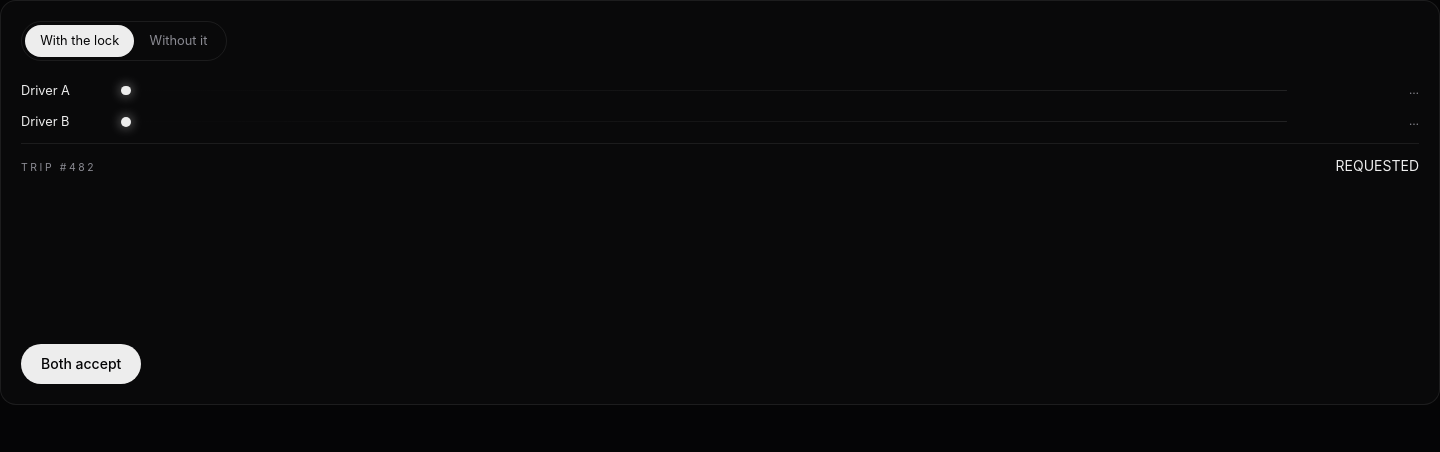
Test: ride race demo › without the lock, the same taps double-book the ride
Click the button "Without it" at [178, 41], box [134,25,223,57]
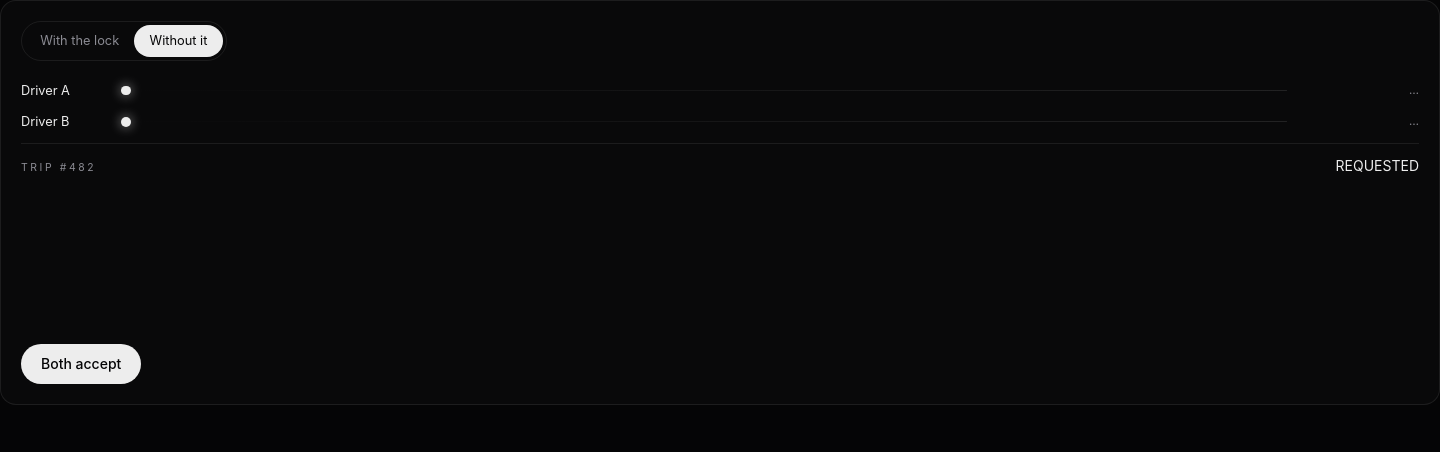
Now the button "Without it" is pressed, box [134,25,223,57]
Click the button "Both accept" at [81, 364], box [21,344,141,384]
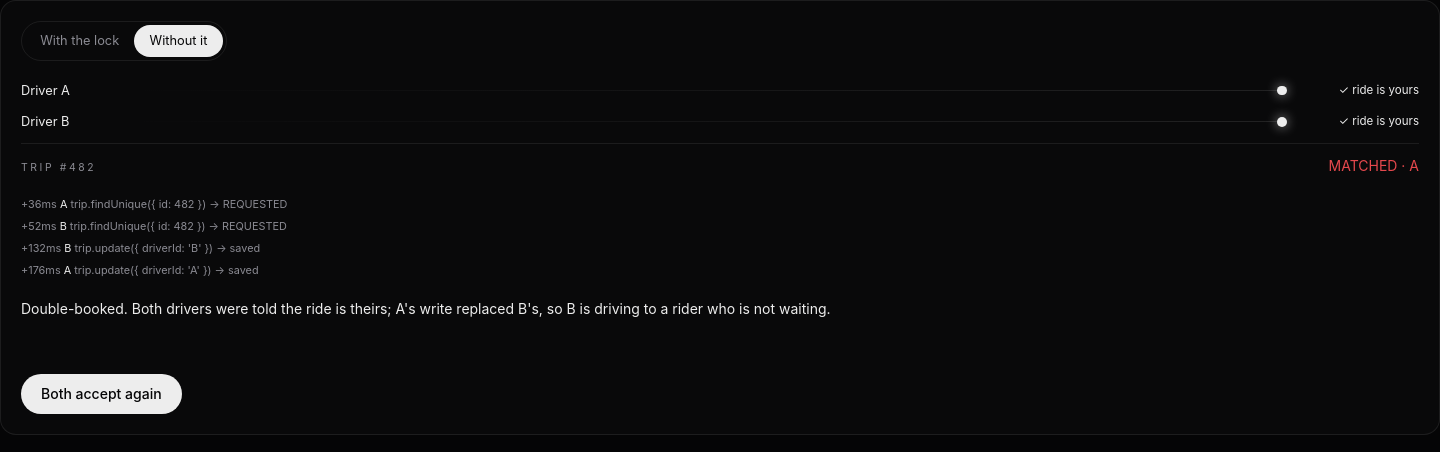
Expected: the element with class "race-trip" is shown, [21,143,1419,176]
Now the text with test id "race-verdict" shows "Double-booked", box [21,300,831,317]
